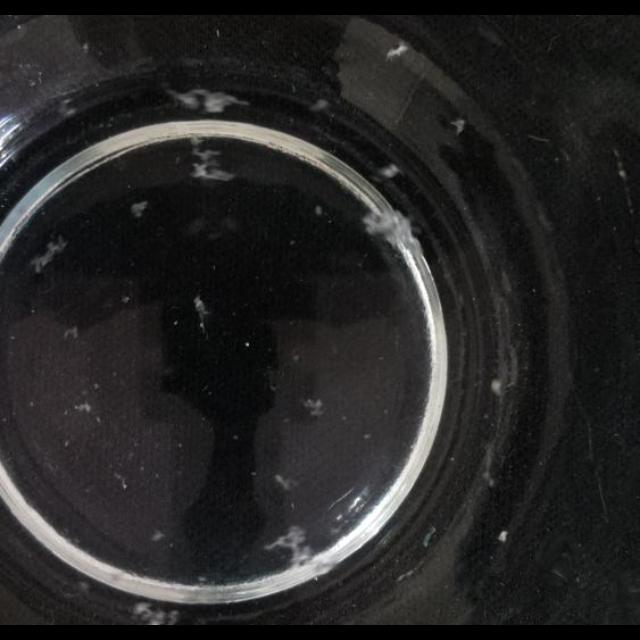Fibre: (365, 200, 427, 264), (289, 530, 353, 582), (175, 84, 249, 118), (261, 525, 313, 569), (188, 146, 238, 182), (488, 350, 524, 400), (477, 424, 503, 492), (30, 236, 68, 272), (131, 600, 177, 624), (193, 296, 211, 330), (302, 397, 324, 418), (378, 163, 400, 181), (274, 473, 296, 491), (387, 42, 409, 60), (310, 96, 332, 112), (448, 117, 466, 135), (131, 200, 149, 218), (64, 326, 78, 340)
microbeads: (396, 562, 419, 582), (493, 527, 513, 547), (75, 401, 92, 414), (152, 530, 166, 542), (314, 206, 324, 217), (120, 293, 130, 303), (362, 432, 372, 440), (198, 575, 208, 583), (292, 353, 300, 363), (64, 440, 70, 448), (94, 382, 100, 390), (232, 433, 238, 441), (173, 319, 179, 326), (244, 341, 250, 347)
